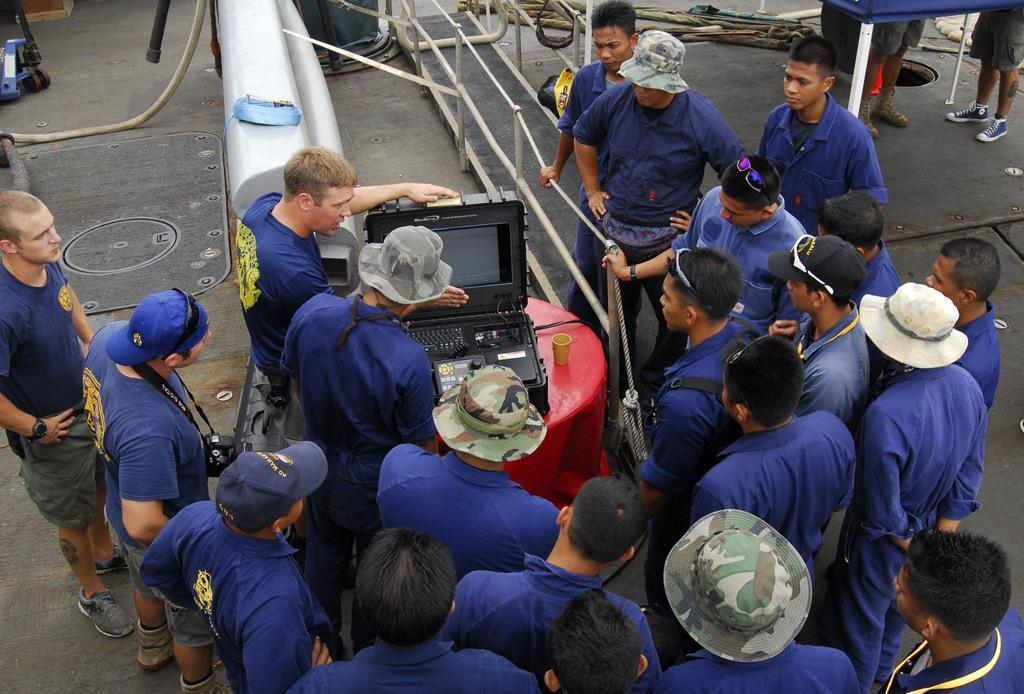Hat: (660, 506, 812, 664), (432, 362, 543, 459), (858, 280, 968, 370), (358, 224, 452, 303), (617, 24, 688, 92)
